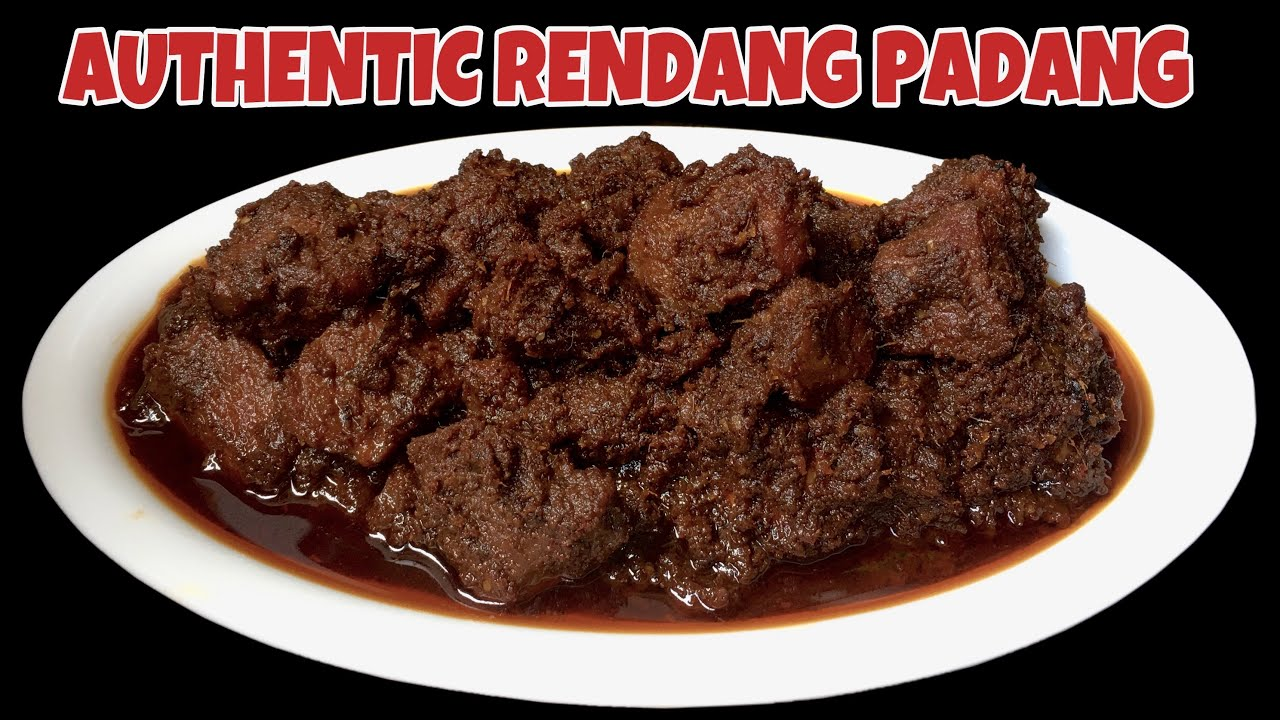rendang: (83, 135, 1227, 655)
